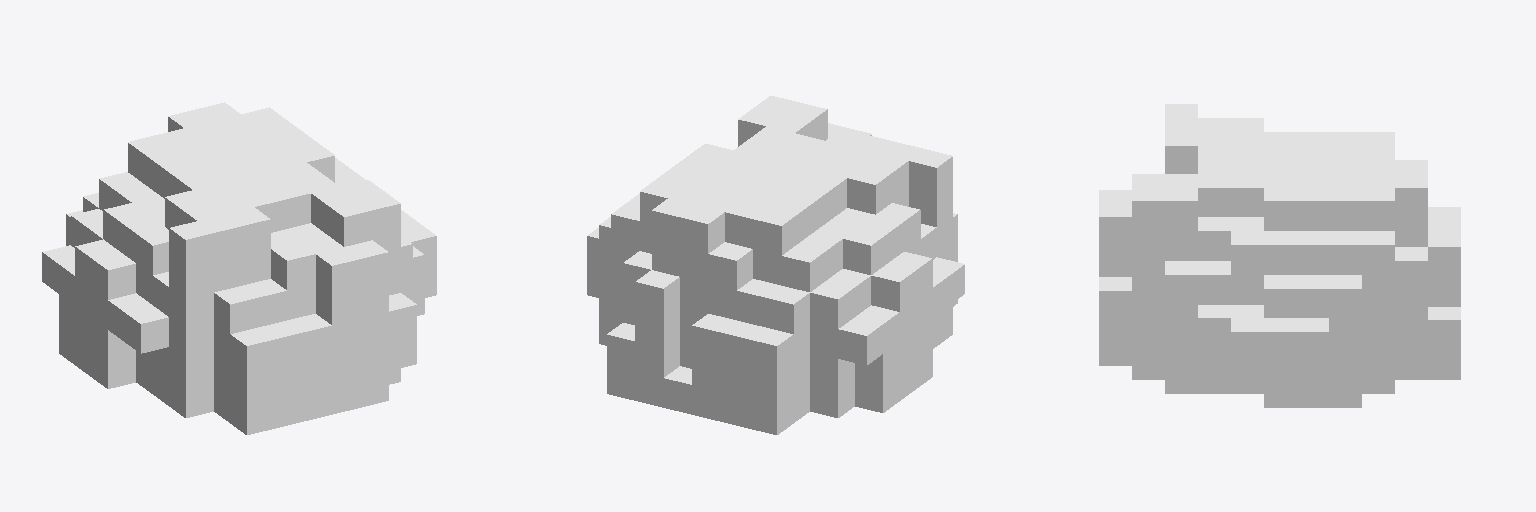
Rendered from Piedra.obj.
The picture shows the model from 3 angles: view 1: azimuth 30°, elevation 25°; view 2: azimuth 150°, elevation 25°; view 3: azimuth 270°, elevation 25°; orthographic projection.
Parts seen in each view (by area): view 1: object 1; view 2: object 1; view 3: object 1.
Part boxes in pixels (x1,y1,x2,y2): object 1: (42,102,436,434); object 1: (587,96,964,434); object 1: (1099,104,1460,407).
Size of the model in its own units: 1.1 by 0.6 by 1.1.